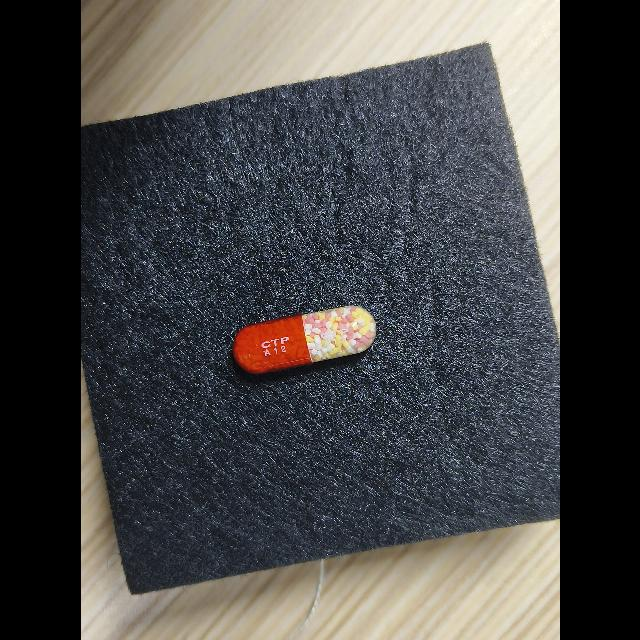Intact Capsule: (232, 306, 376, 374)
